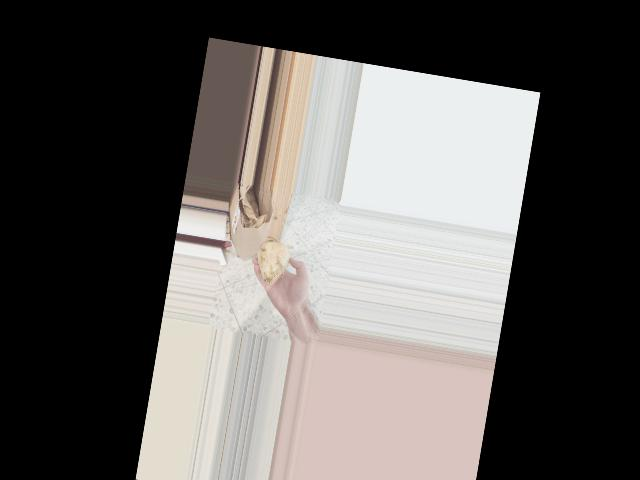onion: (252, 234, 293, 288)
